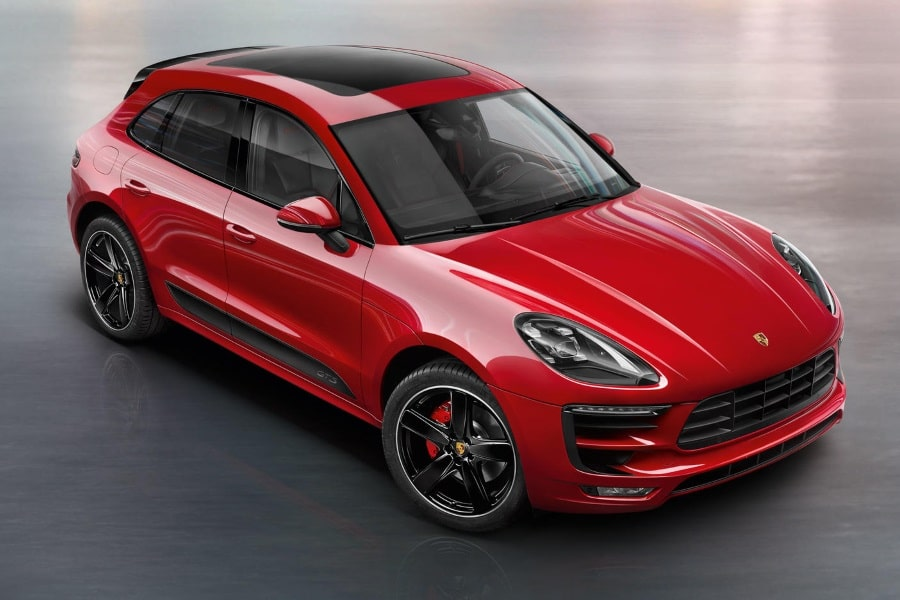car: (65, 43, 846, 532)
